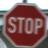Stop sign: (0, 0, 47, 47)
